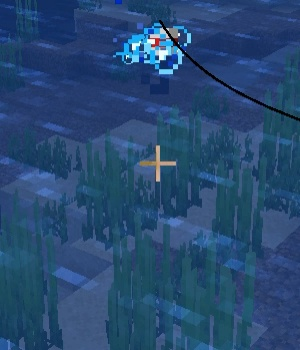up: (142, 26, 179, 97)
